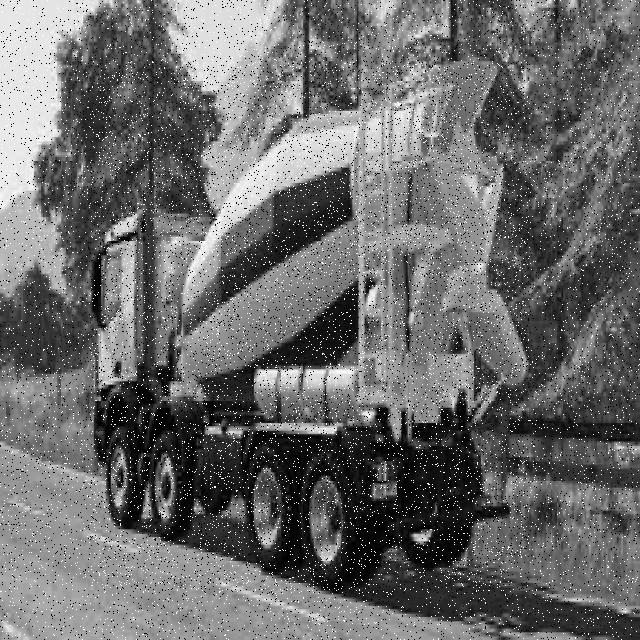Concrete Mixer: (90, 60, 529, 593)
